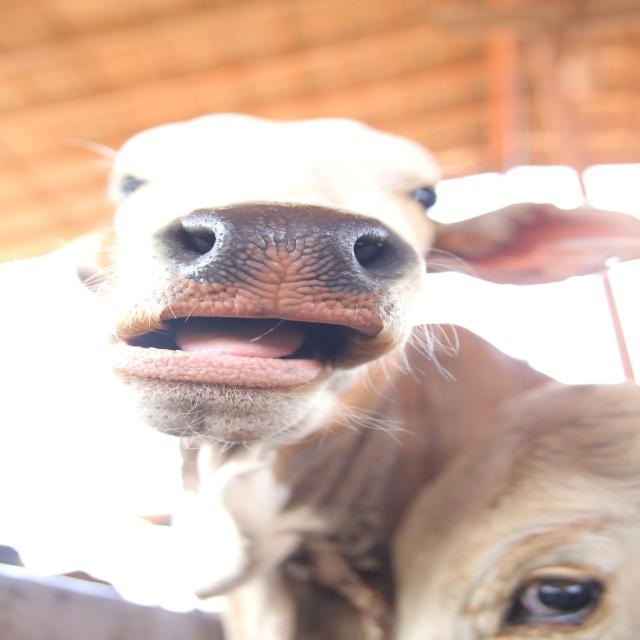muzzles: (134, 200, 423, 343)
